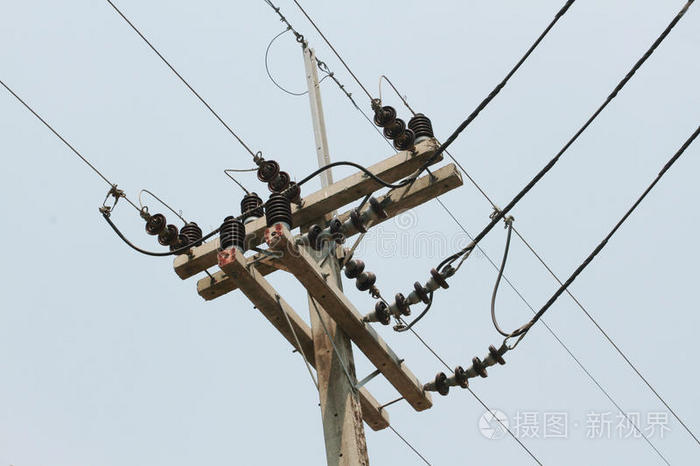insulator: (377, 268, 450, 326), (307, 195, 390, 245), (437, 344, 505, 395), (144, 214, 190, 256), (257, 160, 303, 201), (374, 106, 415, 149), (337, 249, 375, 292)
